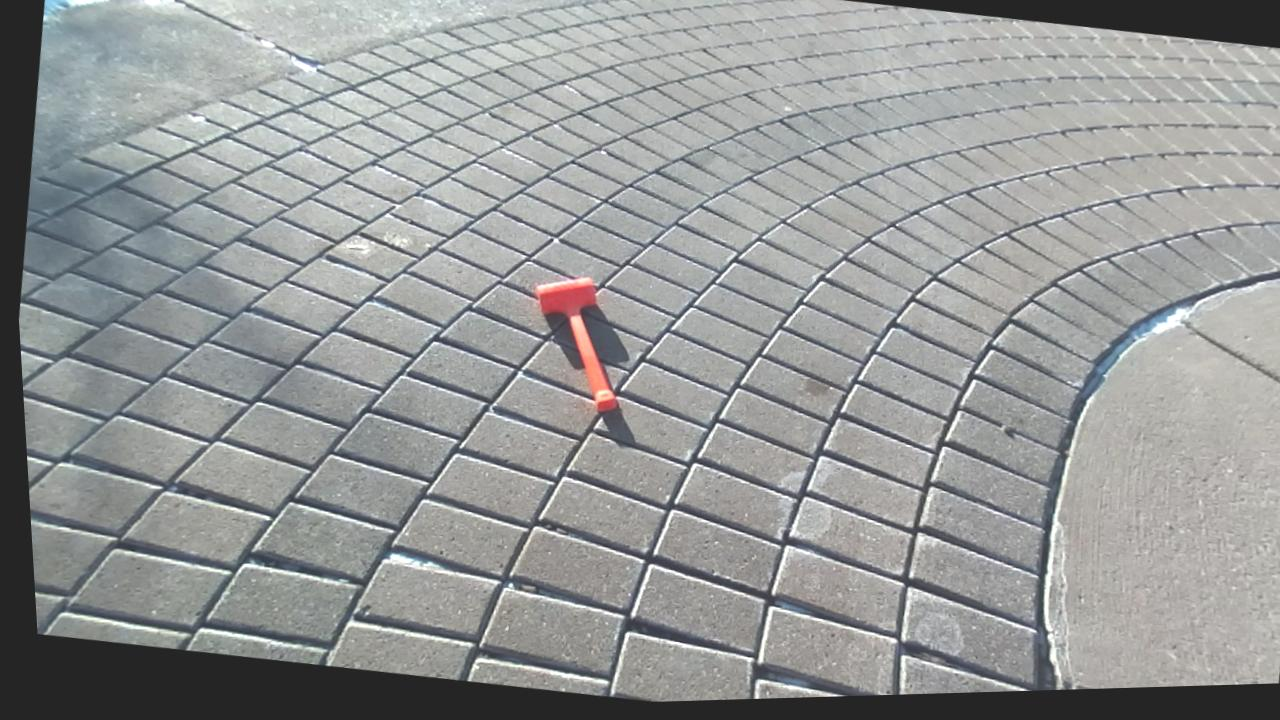mallet: (537, 277, 615, 411)
